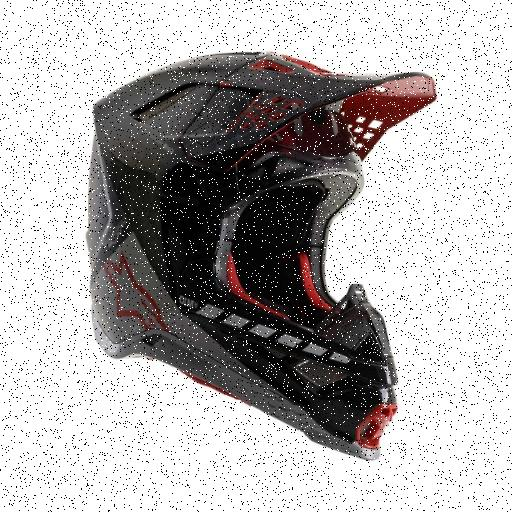Helmet: (88, 53, 435, 459)
